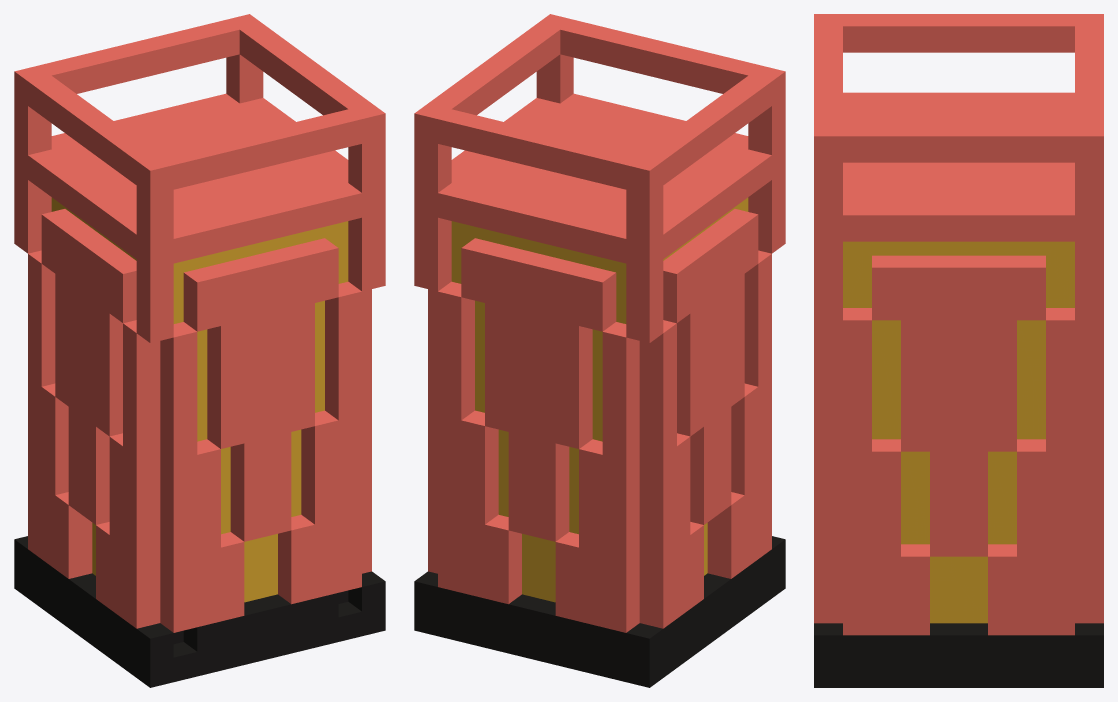
File: building8.obj
3 renders of one model, left to right at view 1: azimuth 30°, elevation 25°; view 2: azimuth 150°, elevation 25°; view 3: azimuth 270°, elevation 25°, orthographic. The views are drawn at different scales.
Size of the model in its own units: 1 by 2.1 by 1.
Materials: 1 (1 with a texture image).
